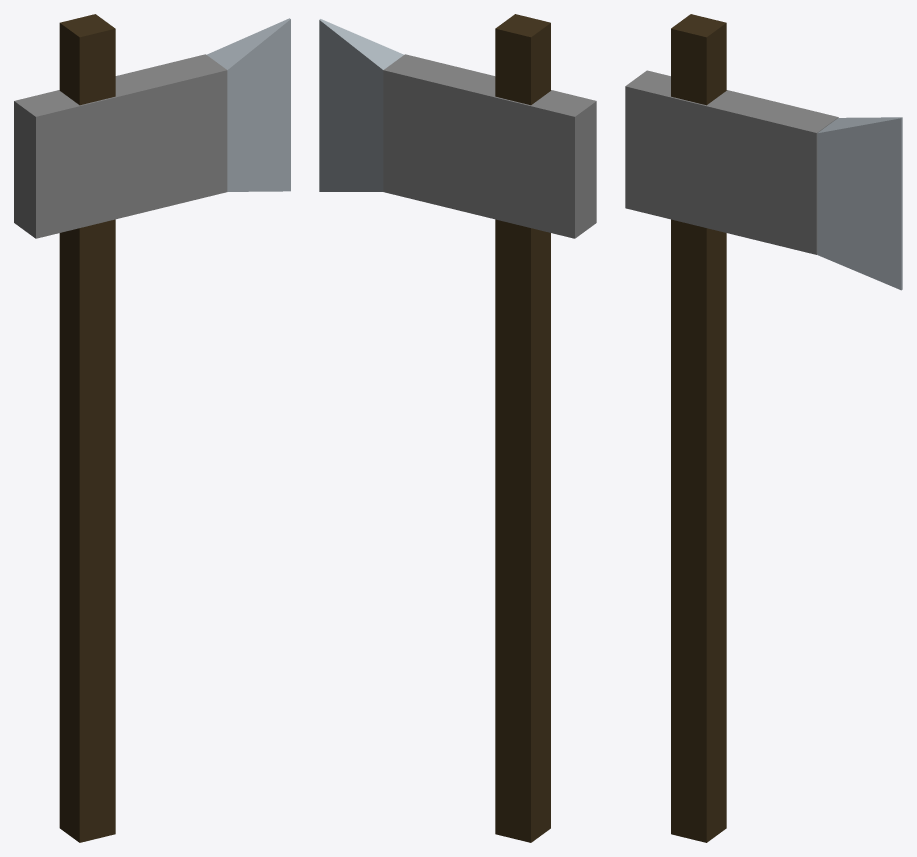
The model's file is axe.fbx.
3 views of the same model, side by side, from view 1: azimuth 30°, elevation 25°; view 2: azimuth 150°, elevation 25°; view 3: azimuth 330°, elevation 25° (orthographic).
Visible parts, largest first — view 1: Cube; view 2: Cube; view 3: Cube.
Part boxes in pixels (<box>): Cube: <box>14,14,290,842</box>; Cube: <box>319,14,596,842</box>; Cube: <box>625,14,902,842</box>.
Bounding box in the file's own units: 122 × 352 × 17.28.
